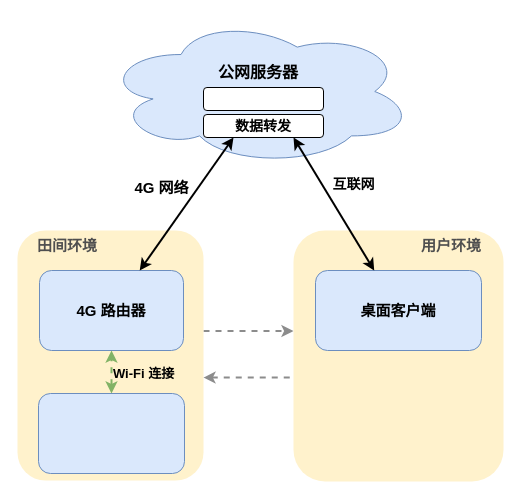
Some shapes in this 520 by 499 pixel diagram are drawn without their labels. Each missing label, with the box of its shape:
RedEdge 相机: (38, 392, 184, 474)
管理后台: (202, 86, 324, 110)
